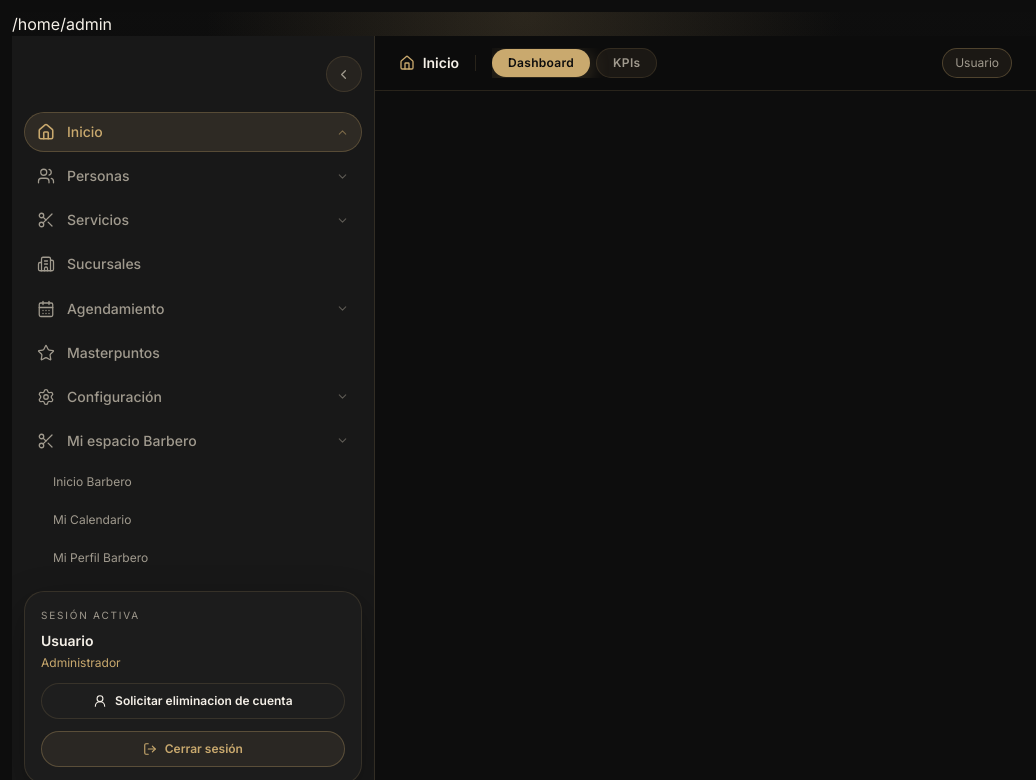
it: enlace administrativo Inicio Barbero navega a /home/barbero
The width and height of the screenshot is (1036, 780).
Step 1. Click the button "Inicio Barbero" → (92, 482), box [40, 465, 362, 499]
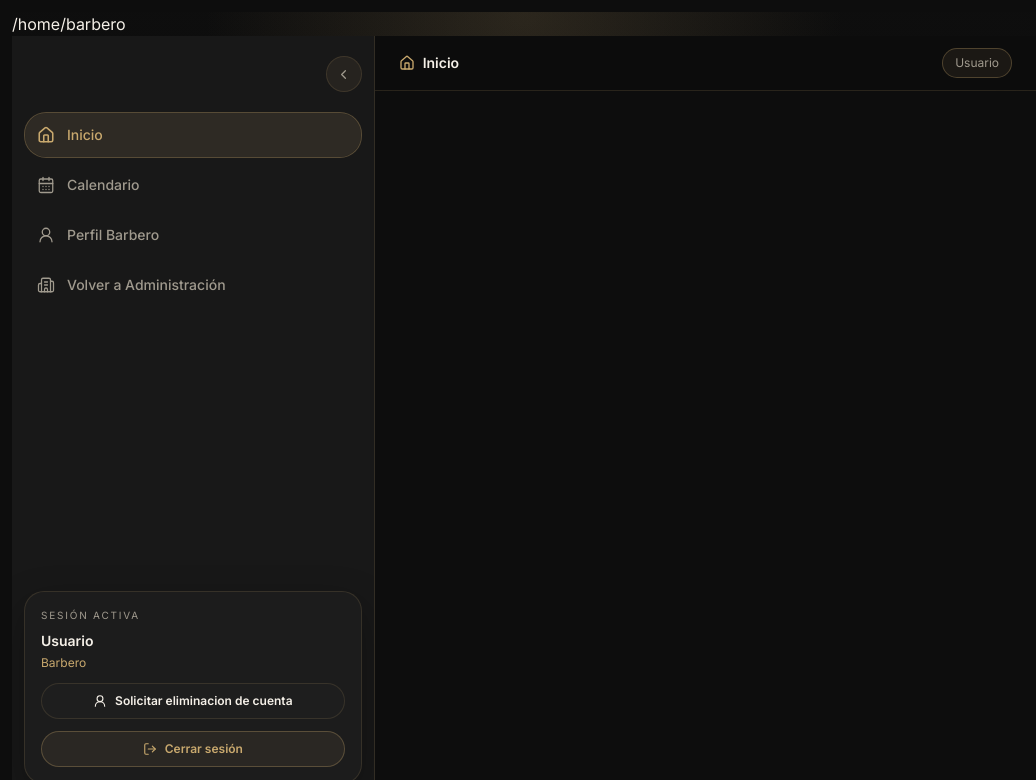
Result: the text with test id "location" reads "/home/barbero" at [12, 14, 126, 34]
